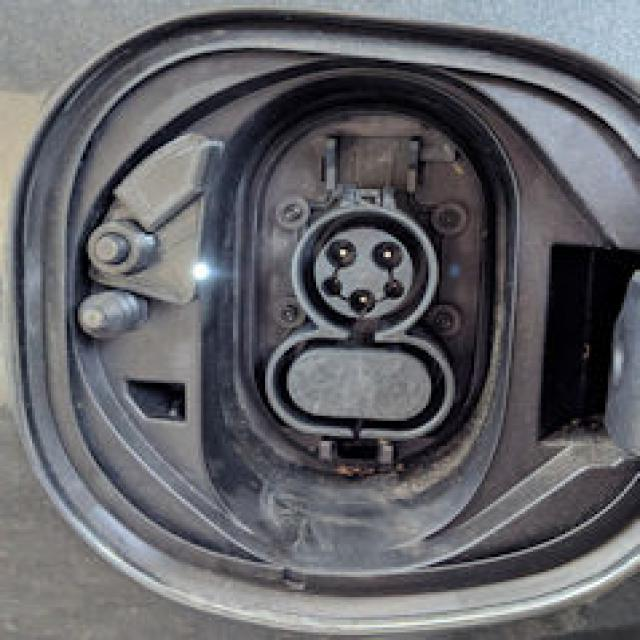CCS1: (248, 166, 468, 453)
